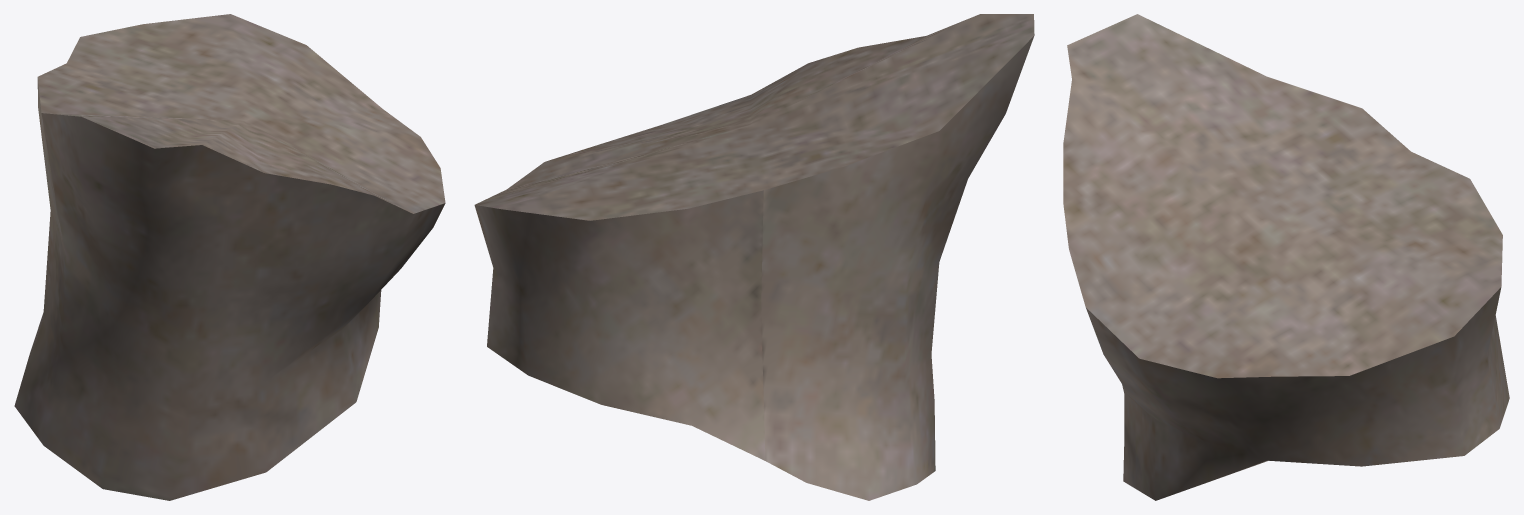
File: atlas_break04.glb
3 views of the same model, side by side, from view 1: azimuth 30°, elevation 25°; view 2: azimuth 150°, elevation 25°; view 3: azimuth 270°, elevation 25° (orthographic). The views are drawn at different scales.
Parts seen in each view (by area): view 1: atlas_break04; view 2: atlas_break04; view 3: atlas_break04.
Boxes of the visible parts, x1,y1,x2,y2 form: atlas_break04: (14, 14, 445, 500); atlas_break04: (474, 14, 1034, 500); atlas_break04: (1063, 14, 1509, 500).
Bounding box in the file's own units: 0.5515 × 0.5347 × 0.534.
Materials: 1 (1 with a texture image).
